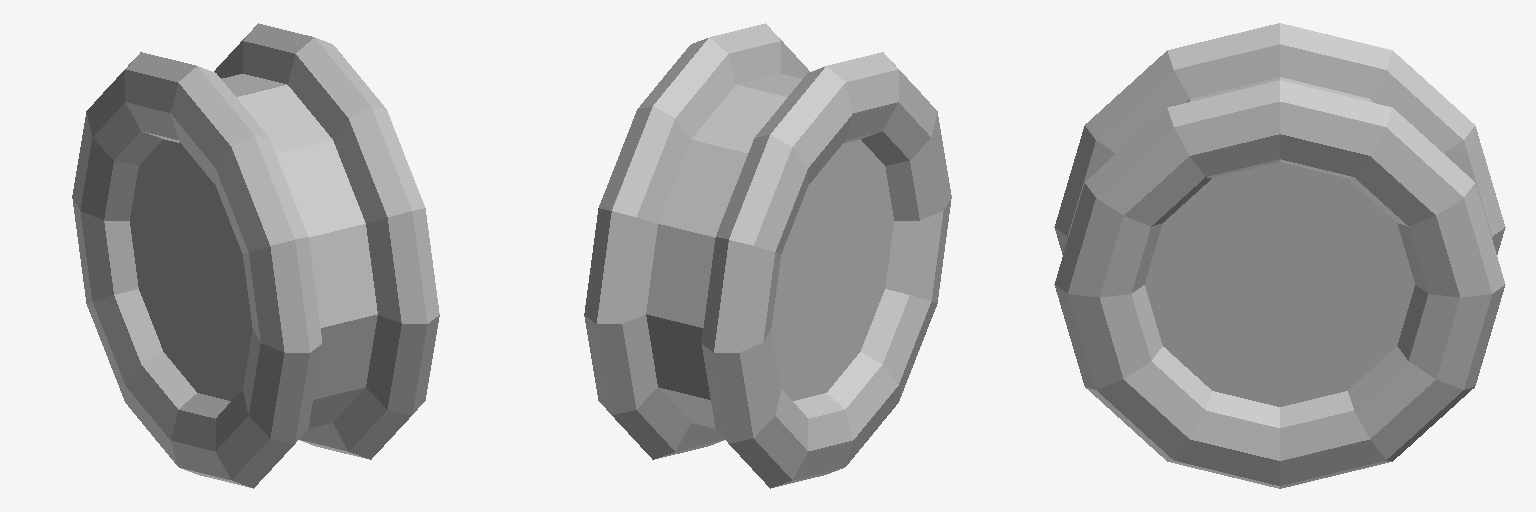
The model's file is yoyo.obj.
3 renders of one model, left to right at view 1: azimuth 30°, elevation 25°; view 2: azimuth 150°, elevation 25°; view 3: azimuth 270°, elevation 25°, orthographic.
Parts seen in each view (by area): view 1: torus2, cylinder, torus1; view 2: torus2, cylinder, torus1; view 3: torus1, cylinder, torus2.
Boxes of the visible parts, x1=… form: torus2: x1=72, y1=52, x2=322, y2=488; cylinder: x1=130, y1=74, x2=377, y2=428; torus1: x1=214, y1=23, x2=439, y2=459; torus2: x1=701, y1=52, x2=951, y2=488; cylinder: x1=646, y1=74, x2=893, y2=428; torus1: x1=584, y1=23, x2=809, y2=459; torus1: x1=1054, y1=80, x2=1505, y2=488; cylinder: x1=1145, y1=77, x2=1414, y2=406; torus2: x1=1054, y1=23, x2=1505, y2=254.
Size of the model in its own units: 0.2188 by 0.5 by 0.5.